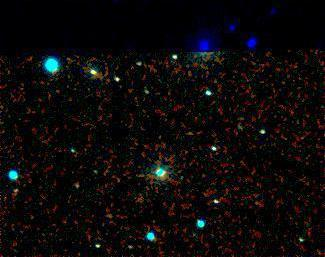star: (167, 167, 197, 197)
